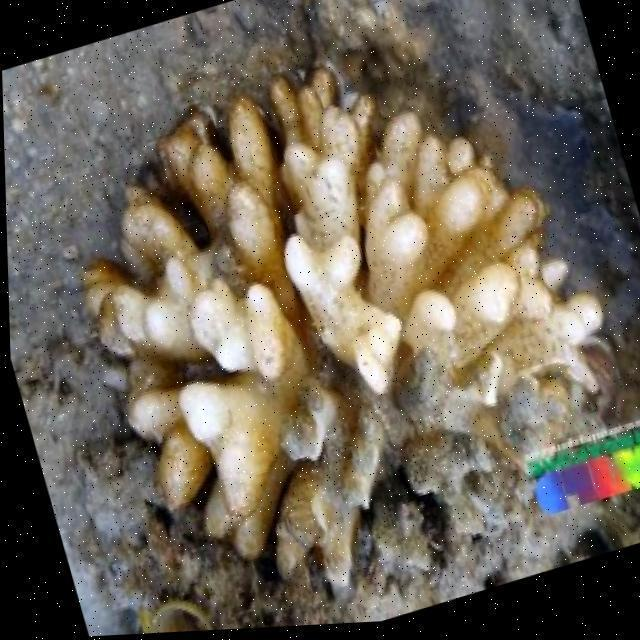Bleached Coral: (78, 2, 620, 630)
